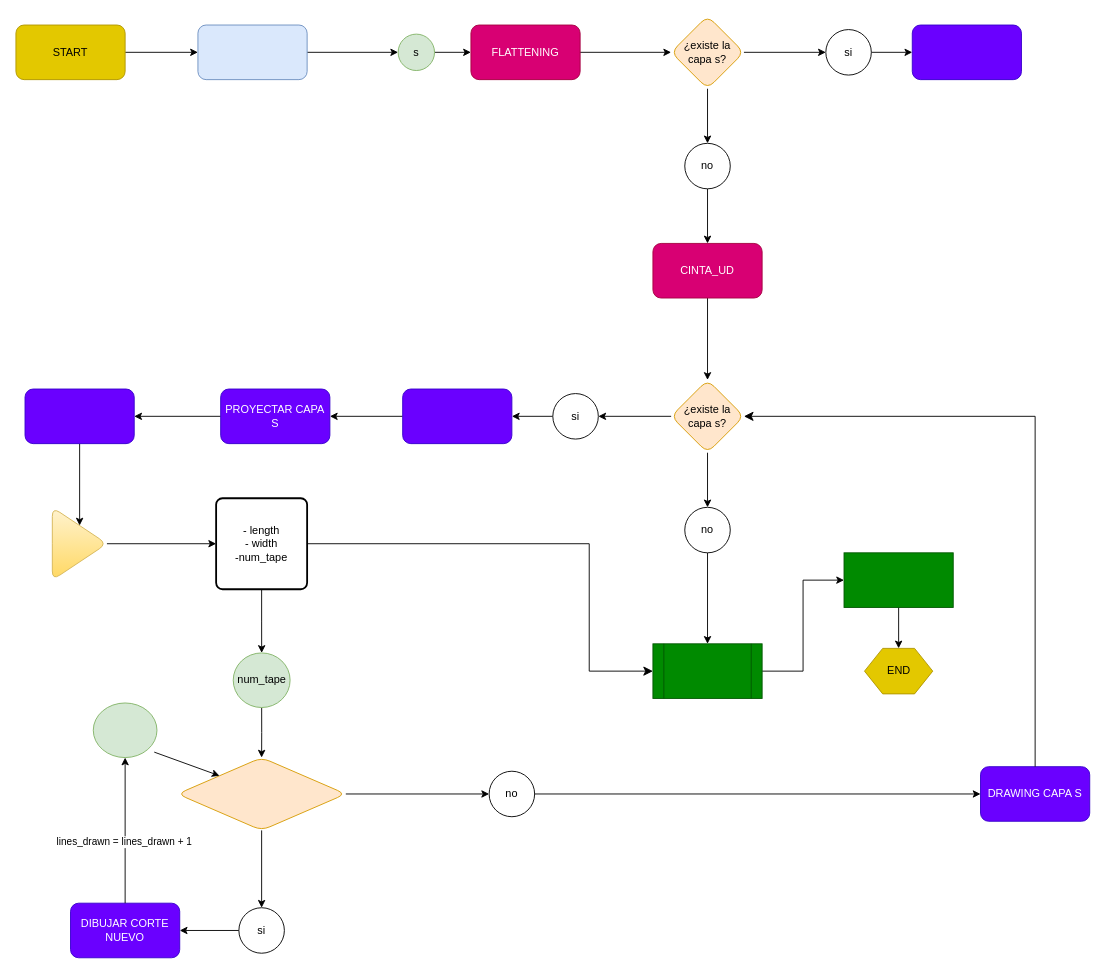
The diagram is 1106 pixels wide and 974 high, and some of its shapes have lost their labels. The shapes that lost their labels are listed below. From the top down, each one's box as (x1, y1, x2, y2) in pixels, then its label:
(197, 24, 307, 80): contar número de capas
(911, 24, 1021, 80): FUNCIONES CLICK
(24, 388, 134, 444): DIBUJAR LIMITES CANTIDAD MATERIAL
(402, 388, 512, 444): CREAR SKETCH
(51, 506, 107, 580): medir
(843, 552, 953, 607): EXPORTAR A EXCEL
(652, 643, 762, 698): SACAR TABLA DATOS
(92, 702, 157, 758): lines_drawn
(177, 757, 346, 830): ¿lines_drawn < num_tape?
